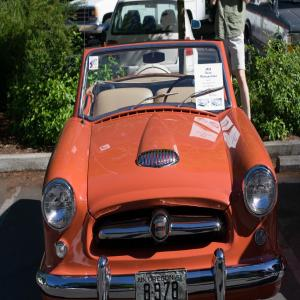Vehicle-registration-plate: (136, 268, 190, 300)
